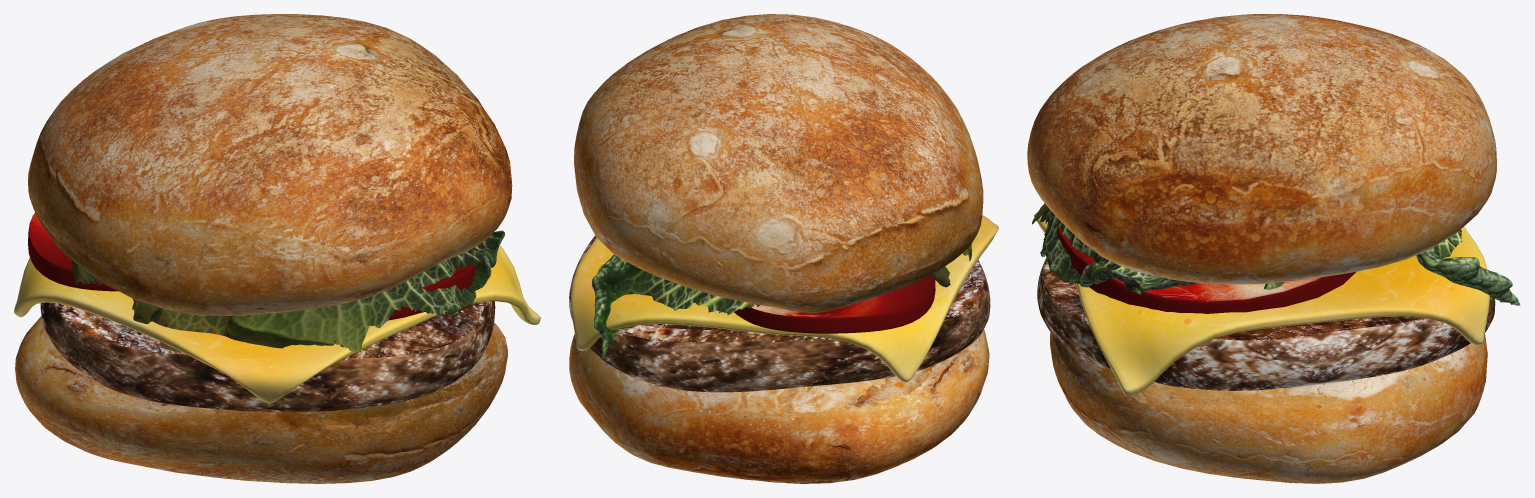
File: burger-sketchfab.glb
The picture shows the model from 3 angles, left to right: view 1: azimuth 30°, elevation 25°; view 2: azimuth 150°, elevation 25°; view 3: azimuth 270°, elevation 25°; orthographic projection. The views are drawn at different scales.
Parts seen in each view (by area): view 1: Bread2A_Bread2A_0, Bread2B_Bread2A_0, Patty2, Cheese2, Cabbage2_Cabbage2_0, Tomato003, Tomato2A; view 2: Bread2A_Bread2A_0, Bread2B_Bread2A_0, Patty2, Cheese2, Tomato003, Cabbage2_Cabbage2_0; view 3: Bread2A_Bread2A_0, Bread2B_Bread2A_0, Patty2, Cheese2, Cabbage2_Cabbage2_0, Tomato2A.
Part boxes in pixels (x1,y1,x2,y2): Bread2A_Bread2A_0: (28, 14, 512, 315); Bread2B_Bread2A_0: (15, 316, 507, 483); Patty2: (40, 301, 495, 412); Cheese2: (14, 245, 540, 403); Cabbage2_Cabbage2_0: (71, 230, 504, 352); Tomato003: (28, 212, 117, 291); Tomato2A: (388, 265, 475, 320); Bread2A_Bread2A_0: (574, 14, 983, 313); Bread2B_Bread2A_0: (569, 329, 989, 483); Patty2: (569, 235, 990, 392); Cheese2: (570, 215, 998, 382); Tomato003: (734, 275, 935, 333); Cabbage2_Cabbage2_0: (592, 244, 971, 358); Bread2A_Bread2A_0: (1027, 14, 1496, 284); Bread2B_Bread2A_0: (1050, 332, 1487, 483); Patty2: (1037, 258, 1495, 390); Cheese2: (1034, 212, 1489, 395); Cabbage2_Cabbage2_0: (1032, 203, 1520, 305); Tomato2A: (1057, 225, 1356, 313).
Size of the model in its own units: 27.95 by 25.27 by 29.53.
Materials: 7 (6 with a texture image).
